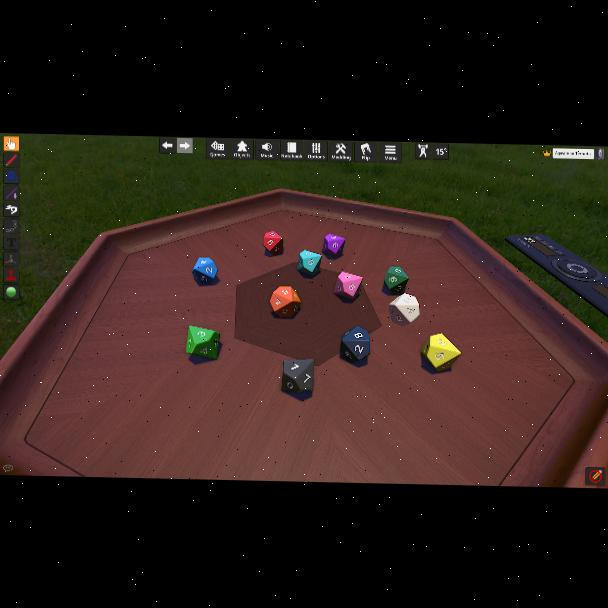d10: (422, 332, 458, 371), (187, 324, 221, 359), (340, 326, 370, 364), (282, 358, 314, 393), (270, 285, 300, 318), (389, 293, 416, 325), (334, 271, 361, 300), (192, 256, 218, 285), (384, 266, 408, 294), (296, 251, 319, 277), (322, 234, 344, 257), (264, 231, 284, 255)
